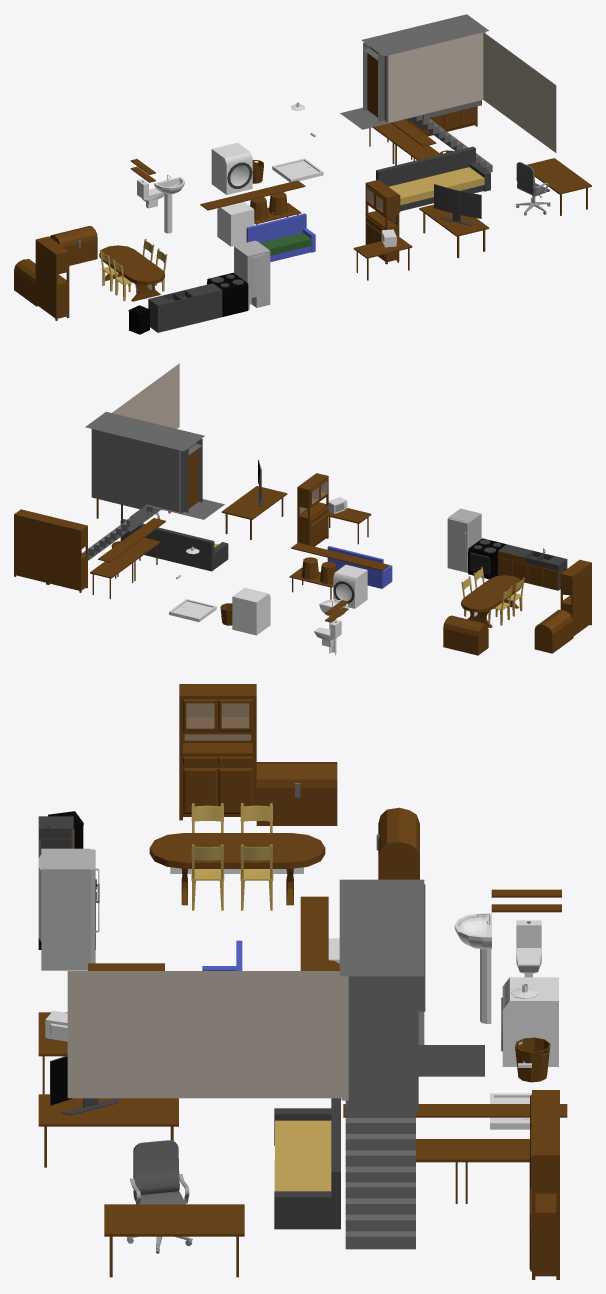
File: House_V2_addon_0.fbx
3 renders of one model, top to bottom at view 1: azimuth 30°, elevation 25°; view 2: azimuth 150°, elevation 25°; view 3: azimuth 270°, elevation 25°, orthographic. The views are drawn at different scales.
Parts seen in each view (by area): view 1: Cube.013, Plane.024, couch_01, evier_000, buffet, Plane.033, couch_00, buffet.001, Fridge, table_00, Washing_machine_00, TV (+20 smaller); view 2: Plane.025, buffet.003, couch_01, Plane.024, buffet.002, evier_000, Plane.033, buffet.001, buffet, Washing_machine_00, table_00, chest_1 (+18 smaller); view 3: Plane.024, buffet, Plane.033, couch_01, Fridge, table_00, chest_1.001, table_02, buffet.002, Washing_machine_00, table_05, top (+24 smaller).
Part boxes in pixels (x1,y1,x2,y2): Cube.013: [386, 32, 485, 122]; Plane.024: [483, 32, 556, 152]; couch_01: [376, 146, 490, 212]; evier_000: [148, 283, 222, 332]; buffet: [35, 236, 69, 320]; Plane.033: [361, 14, 489, 56]; couch_00: [246, 213, 315, 262]; buffet.001: [365, 179, 399, 264]; Fridge: [234, 241, 270, 309]; table_00: [99, 245, 164, 301]; Washing_machine_00: [211, 142, 252, 194]; TV: [434, 184, 481, 225]; Plane.025: [91, 429, 182, 513]; buffet.003: [47, 517, 87, 592]; couch_01: [120, 519, 228, 571]; Plane.024: [112, 363, 179, 428]; buffet.002: [14, 509, 53, 584]; evier_000: [498, 544, 567, 590]; Plane.033: [85, 411, 204, 451]; buffet.001: [297, 473, 328, 546]; buffet: [560, 559, 591, 638]; Washing_machine_00: [232, 587, 270, 635]; table_00: [461, 575, 521, 627]; chest_1: [443, 615, 488, 655]; Plane.024: [67, 971, 418, 1098]; buffet: [179, 684, 256, 820]; Plane.033: [339, 879, 424, 976]; couch_01: [274, 1098, 340, 1229]; Fridge: [38, 848, 90, 970]; table_00: [149, 833, 325, 905]; chest_1.001: [256, 762, 337, 825]; table_02: [104, 1204, 244, 1277]; buffet.002: [529, 1122, 559, 1279]; Washing_machine_00: [502, 977, 558, 1066]; table_05: [38, 1094, 178, 1167]; top: [130, 1140, 189, 1204].
Size of the model in its own units: 1588 by 475 by 753.
